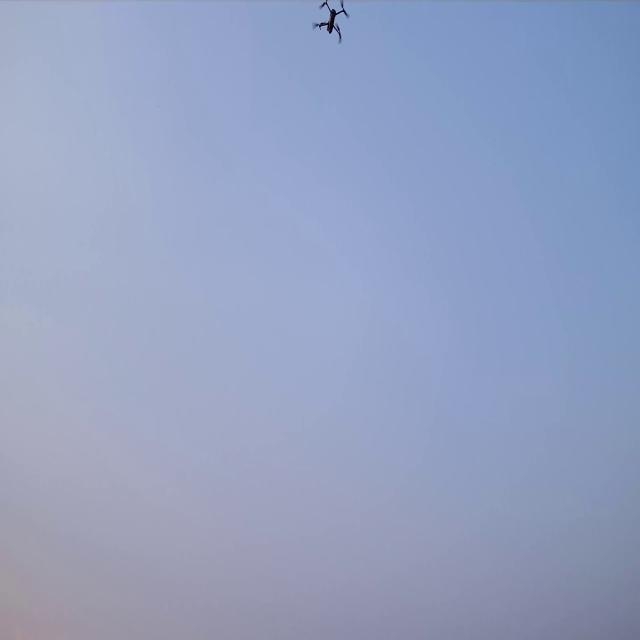UAV: (310, 0, 349, 44)
